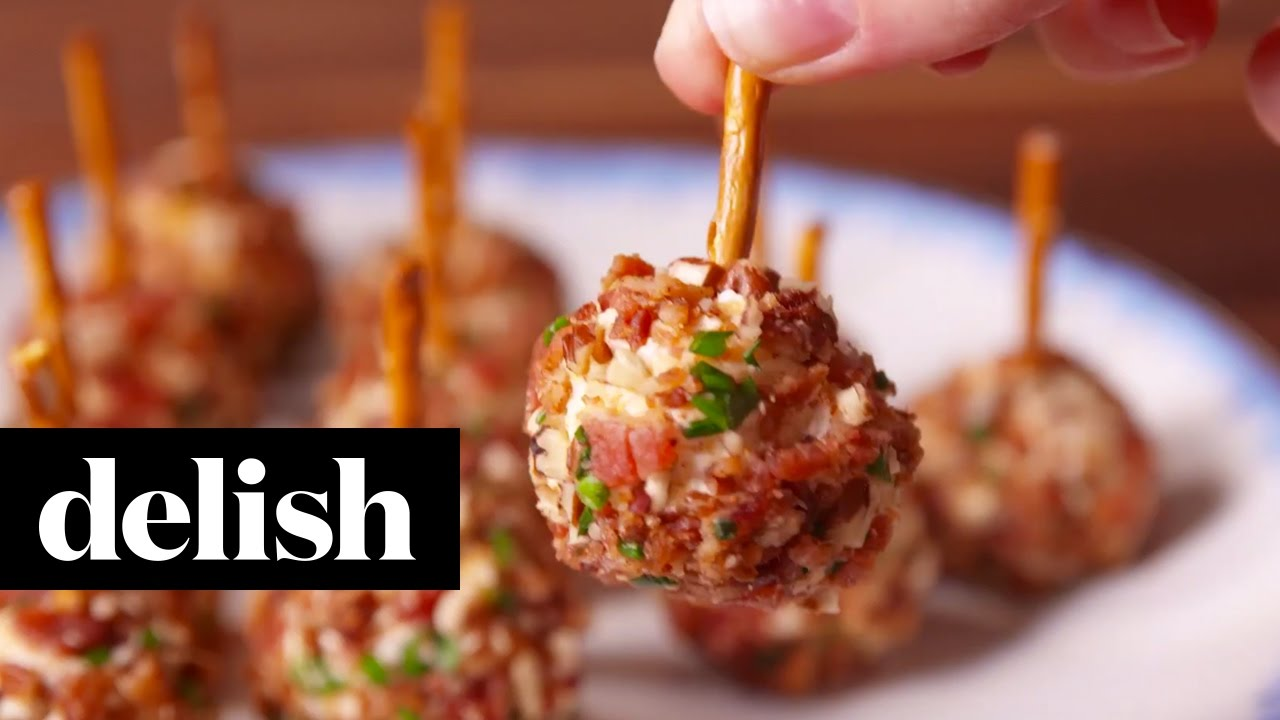cheese: (533, 279, 801, 532)
